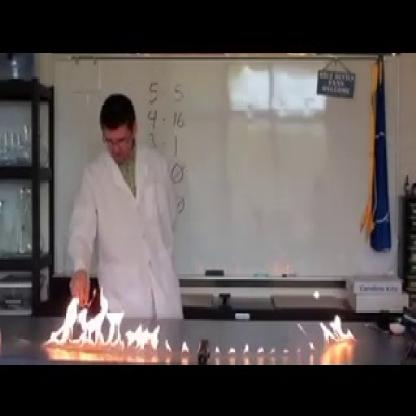fire: (42, 284, 160, 352), (318, 311, 356, 351)
